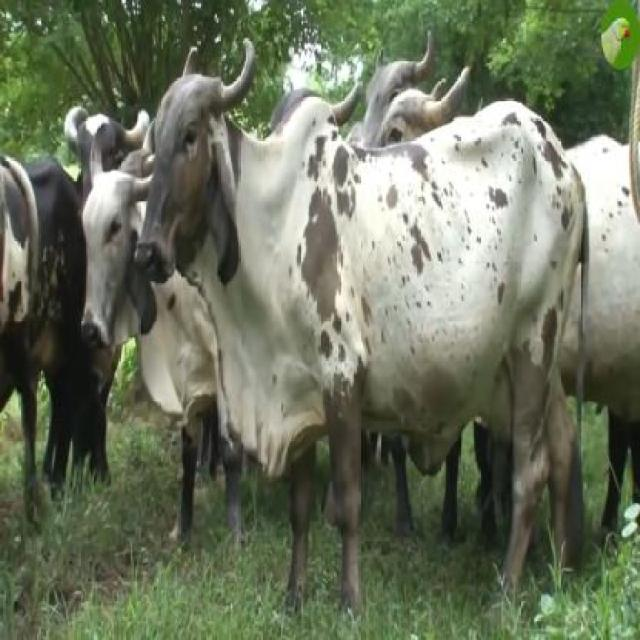Cow: (135, 54, 588, 631)
